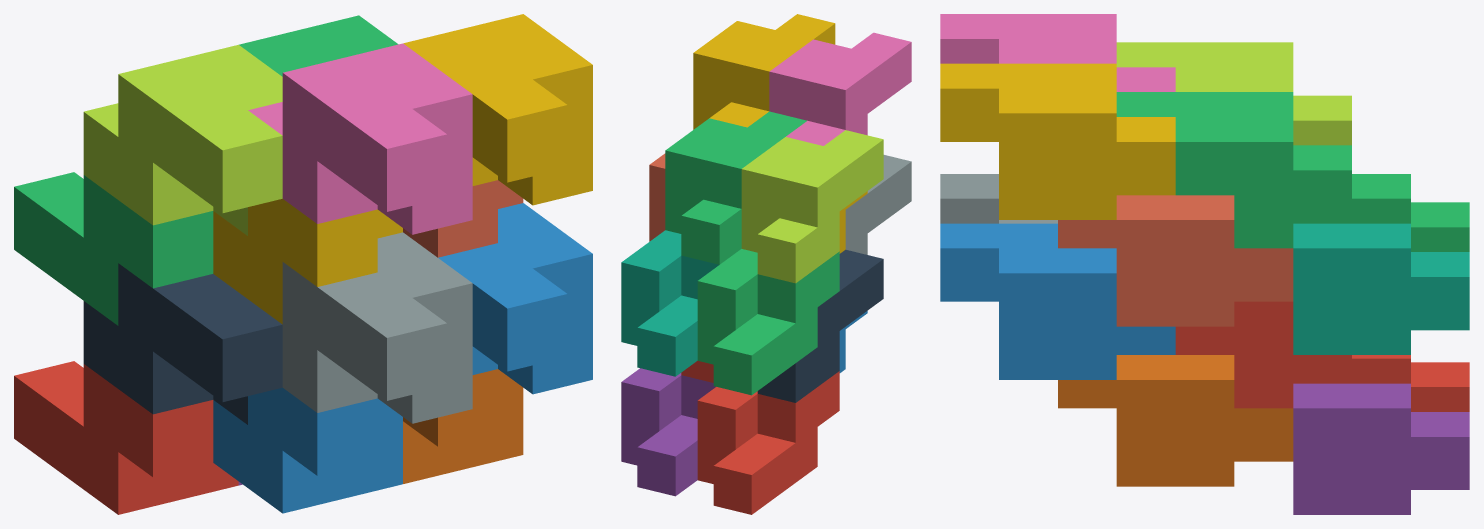
Rendered from tiling.obj.
The picture shows the model from 3 angles, left to right: view 1: azimuth 30°, elevation 25°; view 2: azimuth 150°, elevation 25°; view 3: azimuth 270°, elevation 25°; orthographic projection. The views are drawn at different scales.
Visible parts, largest first — view 1: copy_2_domain_4, copy_2_domain_3, copy_2_domain_2, copy_2_domain_8, copy_2_domain_1, copy_1_domain_1, copy_2_domain_6, copy_1_domain_2, copy_1_domain_3, copy_1_domain_4, copy_1_domain_6, copy_2_domain_7 (+1 smaller); view 2: copy_2_domain_3, copy_1_domain_3, copy_1_domain_1, copy_2_domain_7, copy_2_domain_4, copy_1_domain_7, copy_2_domain_8, copy_1_domain_5, copy_2_domain_1, copy_2_domain_2, copy_1_domain_8, copy_2_domain_5 (+2 smaller); view 3: copy_2_domain_8, copy_2_domain_6, copy_2_domain_7, copy_1_domain_6, copy_1_domain_8, copy_1_domain_7, copy_1_domain_5, copy_2_domain_3, copy_2_domain_4, copy_2_domain_5, copy_1_domain_3, copy_1_domain_1 (+1 smaller).
Part boxes in pixels (<box>): copy_2_domain_4: <box>248,43,472,234</box>; copy_2_domain_3: <box>83,45,282,235</box>; copy_2_domain_2: <box>282,232,472,423</box>; copy_2_domain_8: <box>403,14,592,205</box>; copy_2_domain_1: <box>83,263,282,424</box>; copy_1_domain_1: <box>14,361,238,514</box>; copy_2_domain_6: <box>438,203,592,394</box>; copy_1_domain_2: <box>213,387,402,513</box>; copy_1_domain_3: <box>14,172,213,325</box>; copy_1_domain_4: <box>213,198,402,324</box>; copy_1_domain_6: <box>403,369,523,483</box>; copy_2_domain_7: <box>239,15,398,76</box>; copy_2_domain_3: <box>741,130,883,283</box>; copy_1_domain_3: <box>697,249,839,395</box>; copy_1_domain_1: <box>697,371,839,514</box>; copy_2_domain_7: <box>665,111,806,264</box>; copy_2_domain_4: <box>769,32,911,145</box>; copy_1_domain_7: <box>621,230,718,376</box>; copy_2_domain_8: <box>693,14,835,129</box>; copy_1_domain_5: <box>621,368,715,496</box>; copy_2_domain_1: <box>757,249,883,402</box>; copy_2_domain_2: <box>845,155,911,254</box>; copy_1_domain_8: <box>649,153,665,241</box>; copy_2_domain_5: <box>681,360,713,382</box>; copy_2_domain_8: <box>940,63,1175,219</box>; copy_2_domain_6: <box>940,223,1175,379</box>; copy_2_domain_7: <box>1116,92,1351,248</box>; copy_1_domain_6: <box>1058,355,1293,486</box>; copy_1_domain_8: <box>1058,195,1293,326</box>; copy_1_domain_7: <box>1293,223,1469,354</box>; copy_1_domain_5: <box>1293,383,1469,514</box>; copy_2_domain_3: <box>1116,42,1351,145</box>; copy_2_domain_4: <box>940,14,1175,91</box>; copy_2_domain_5: <box>1175,301,1351,408</box>; copy_1_domain_3: <box>1352,174,1469,251</box>; copy_1_domain_1: <box>1352,355,1469,411</box>.
Size of the model in its own units: 5 by 8 by 9.
